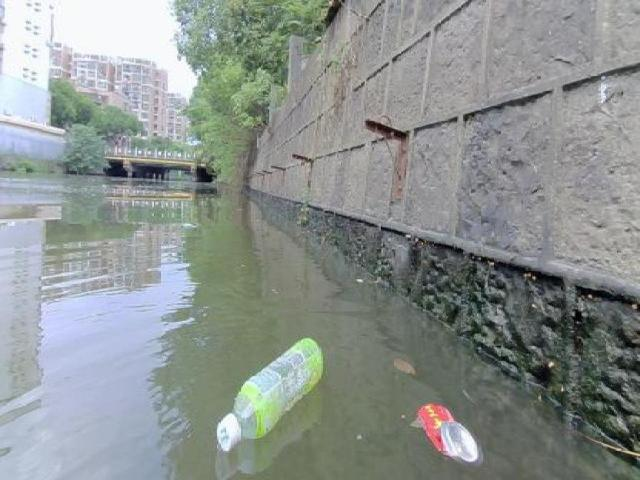Bottle: (213, 337, 327, 453)
Can: (405, 401, 491, 469)
